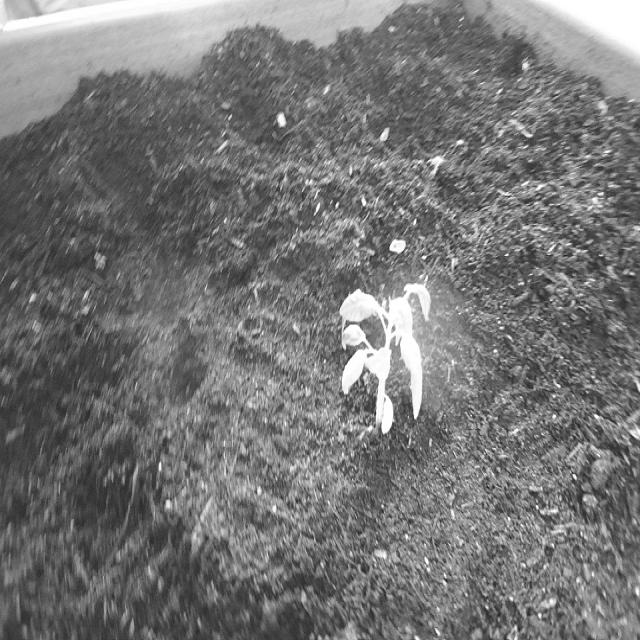Healthy: (336, 279, 434, 439)
